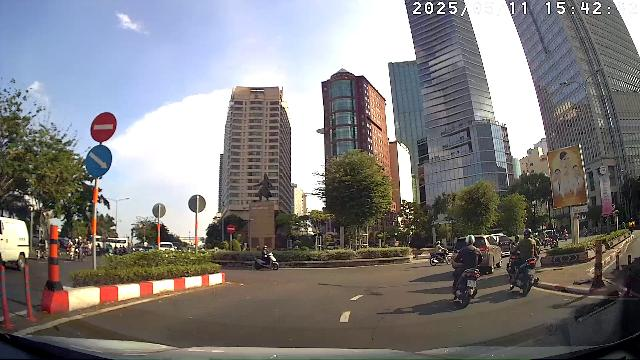102-cam-di-nguoc-chieu: (89, 110, 118, 143)
302a-huong-phai-di-vong-chuong-ngai-vat-1: (83, 144, 113, 179)
